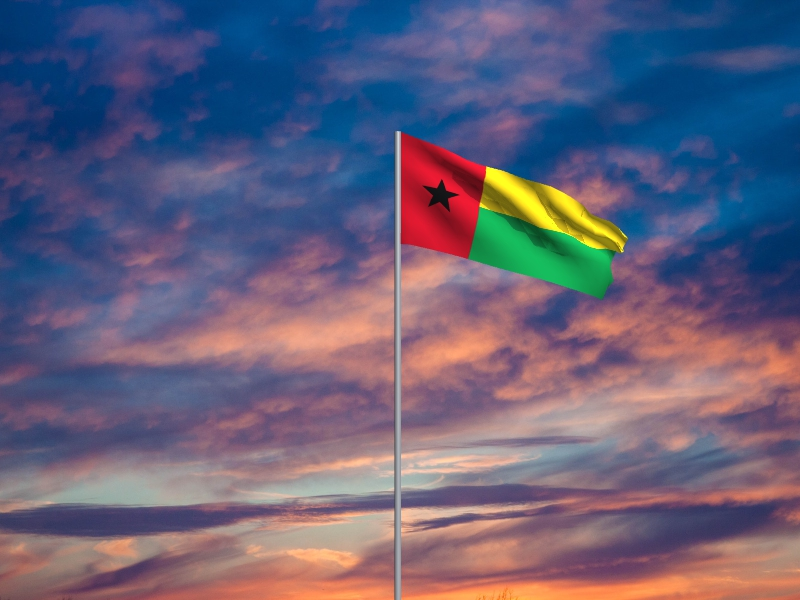gw: (402, 133, 629, 302)
